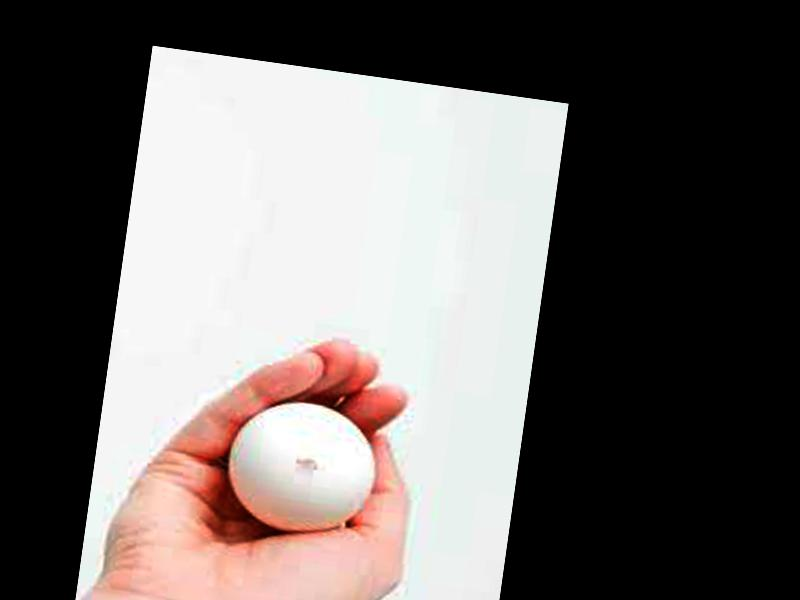Eggs: (222, 393, 379, 539)
